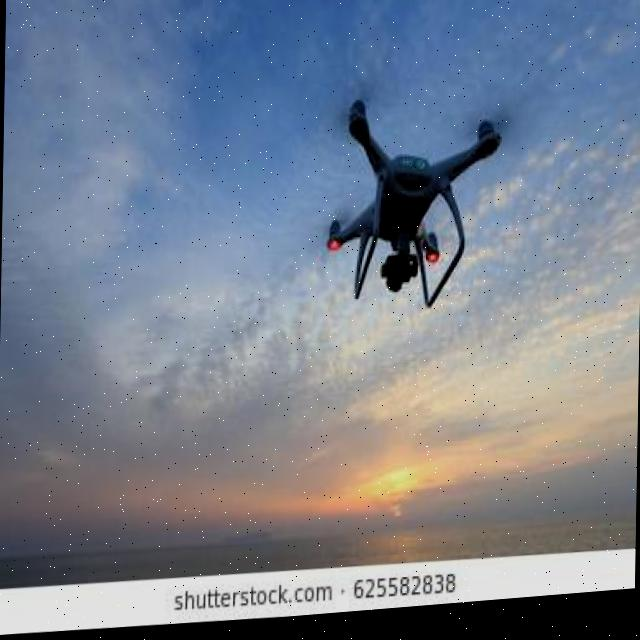drone: (299, 67, 534, 362)
